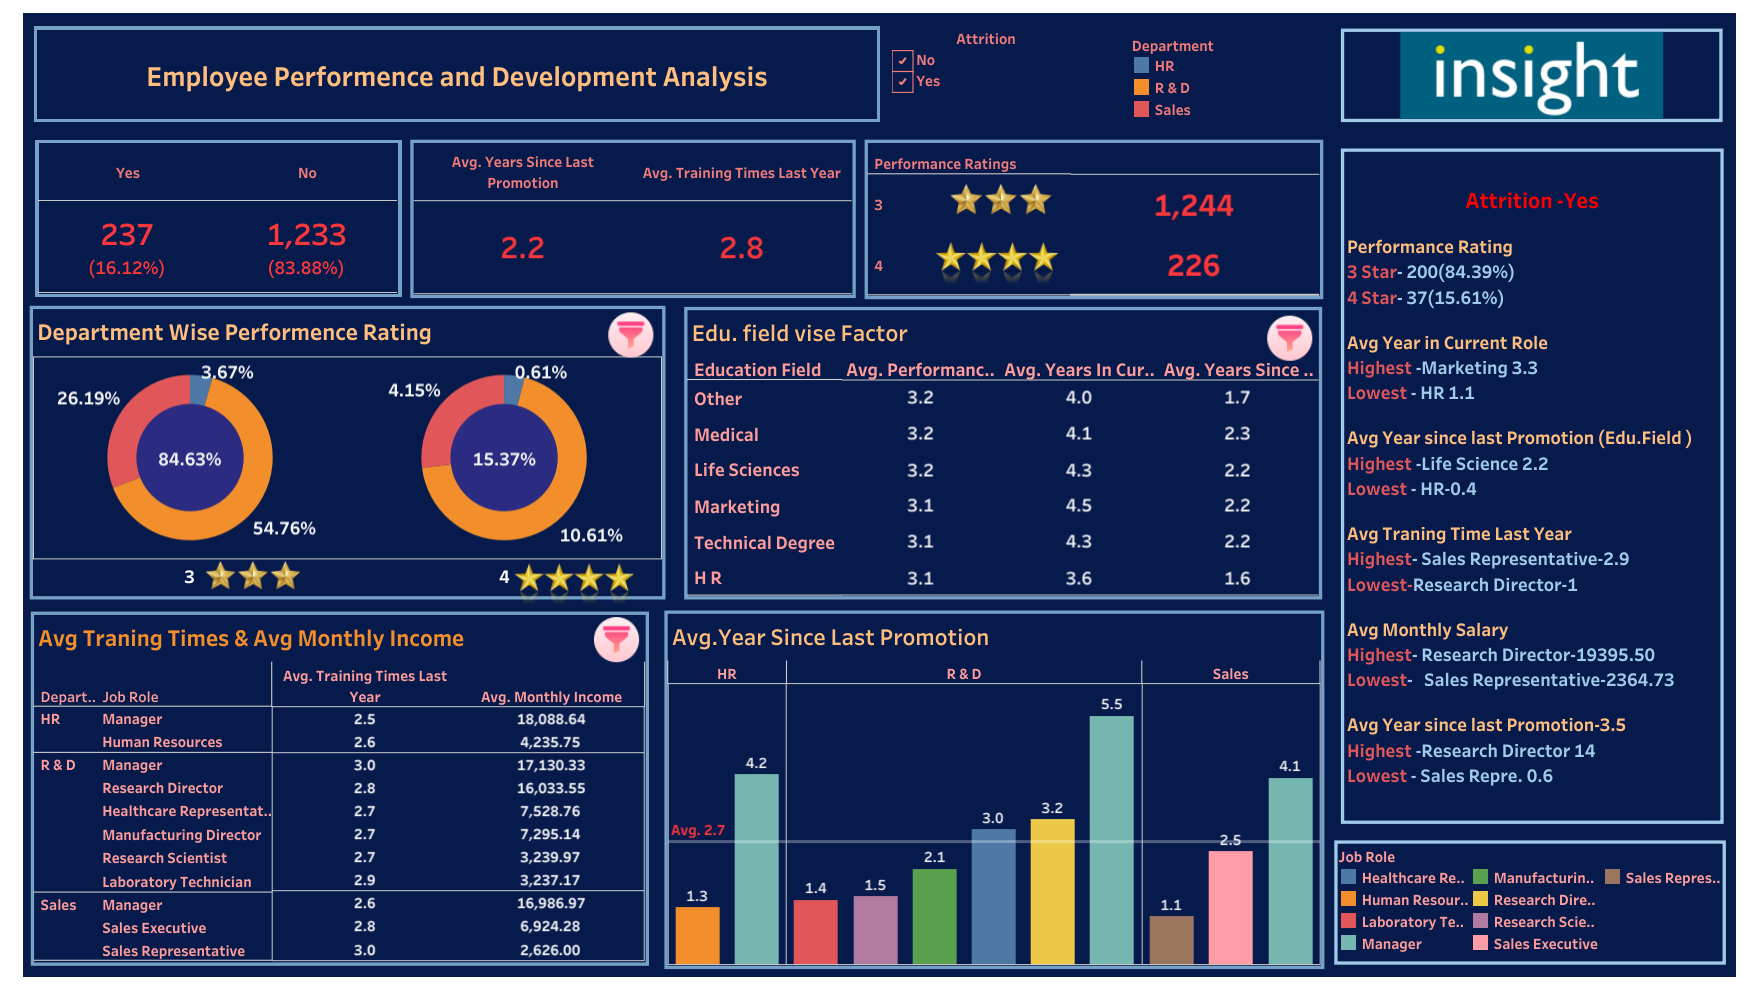

What the dashboard file says about the page in this screenshot:
{"tool":"tableau","page":{"name":"Employee Performance & Develpment Analysis","canvas":[1600,900],"ordinal":0},"visuals":[{"type":"image","param":"Image/dashboard backgroumd.png","box":[8,8,1584,884]},{"type":"text","box":[31,24,769,87]},{"type":"legend","title":"Pro. Rate of Diff Edu. Dept.","param":"[federated.1lym77h1d68l0716y7ol60rjzpza].[none:JobRole:nk]","box":[982,24,220,92]},{"type":"filter","title":"Kpi ","param":"[federated.1lym77h1d68l0716y7ol60rjzpza].[none:Attrition:nk]","box":[814,25,150,88]},{"type":"image","param":"Image/letterbox668x220.png","box":[1219,26,347,85]},{"type":"worksheet","title":"Kpi ","mark":"Automatic","cols":["Attrition"],"box":[32,127,333,143]},{"type":"worksheet","title":"Kpi2","mark":"Automatic","box":[373,127,405,144]},{"type":"worksheet","title":"Kpi3","mark":"Automatic","rows":["Performance Rating (copy)_672725232889032710"],"box":[786,127,417,145]},{"type":"text","box":[1219,135,348,745]},{"type":"image","param":"Image/3sttar.png","box":[862,167,96,28]},{"type":"image","param":"Image/4star.png","box":[850,220,118,39]},{"type":"worksheet","title":"Department Wise Performence Rating","mark":"Pie","rows":["Calculation_1071293800299438081","Calculation_1071293800299503619"],"cols":["Performance Rating (copy)_672725232889032710"],"box":[27,278,578,267]},{"type":"worksheet","title":"Edu. field vise Factor","mark":"Automatic","rows":["EducationField"],"box":[622,279,580,266]},{"type":"image","param":"Image/filter.png","box":[550,284,47,41]},{"type":"image","param":"Image/filter.png","box":[1149,287,47,41]},{"type":"image","param":"Image/3sttar.png","box":[179,510,103,26]},{"type":"image","param":"Image/4star.png","box":[464,512,120,38]},{"type":"worksheet","title":"Pro. Rate of Diff Edu. Dept.","mark":"Automatic","rows":["YearsSinceLastPromotion"],"cols":["Department","JobRole"],"box":[604,555,600,326]},{"type":"worksheet","title":"Avg Traning Times & Avg Monthly Income","mark":"Automatic","rows":["Department","JobRole"],"box":[28,556,562,322]},{"type":"image","param":"Image/filter.png","box":[537,561,47,41]}]}

Visuals, with their boxes in screenshot pixels (x1, y1, x2, y2), scaled from the page's 1600x900 canvas onto the 1759x989 screenshot:
image: x1=9 y1=9 x2=1750 y2=980
text: x1=34 y1=26 x2=880 y2=122
"Pro. Rate of Diff Edu. Dept." legend: x1=1080 y1=26 x2=1321 y2=127
"Kpi " filter: x1=895 y1=27 x2=1060 y2=124
image: x1=1340 y1=29 x2=1722 y2=122
"Kpi " worksheet: x1=35 y1=140 x2=401 y2=297
"Kpi2" worksheet: x1=410 y1=140 x2=855 y2=298
"Kpi3" worksheet: x1=864 y1=140 x2=1323 y2=299
text: x1=1340 y1=148 x2=1723 y2=967
image: x1=948 y1=184 x2=1053 y2=214
image: x1=934 y1=242 x2=1064 y2=285
"Department Wise Performence Rating" worksheet (Pie marks): x1=30 y1=305 x2=665 y2=599
"Edu. field vise Factor" worksheet: x1=684 y1=307 x2=1321 y2=599
image: x1=605 y1=312 x2=656 y2=357
image: x1=1263 y1=315 x2=1315 y2=360
image: x1=197 y1=560 x2=310 y2=589
image: x1=510 y1=563 x2=642 y2=604
"Pro. Rate of Diff Edu. Dept." worksheet: x1=664 y1=610 x2=1324 y2=968
"Avg Traning Times & Avg Monthly Income" worksheet: x1=31 y1=611 x2=649 y2=965
image: x1=590 y1=616 x2=642 y2=662
